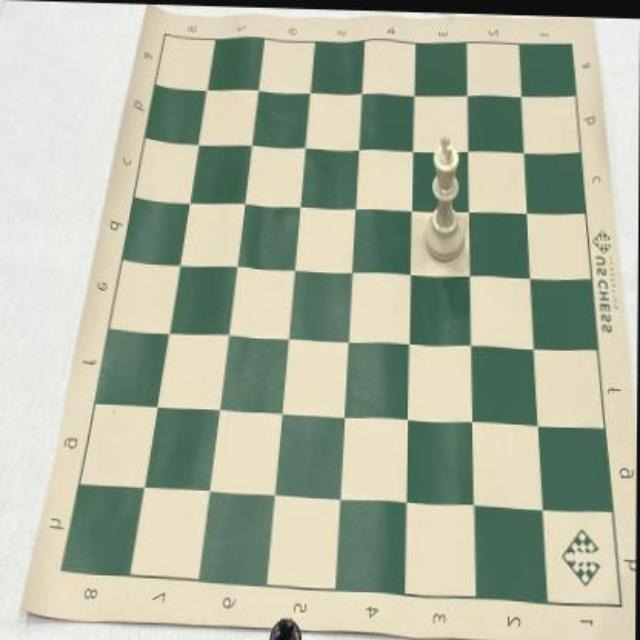white-king: (422, 127, 468, 263)
